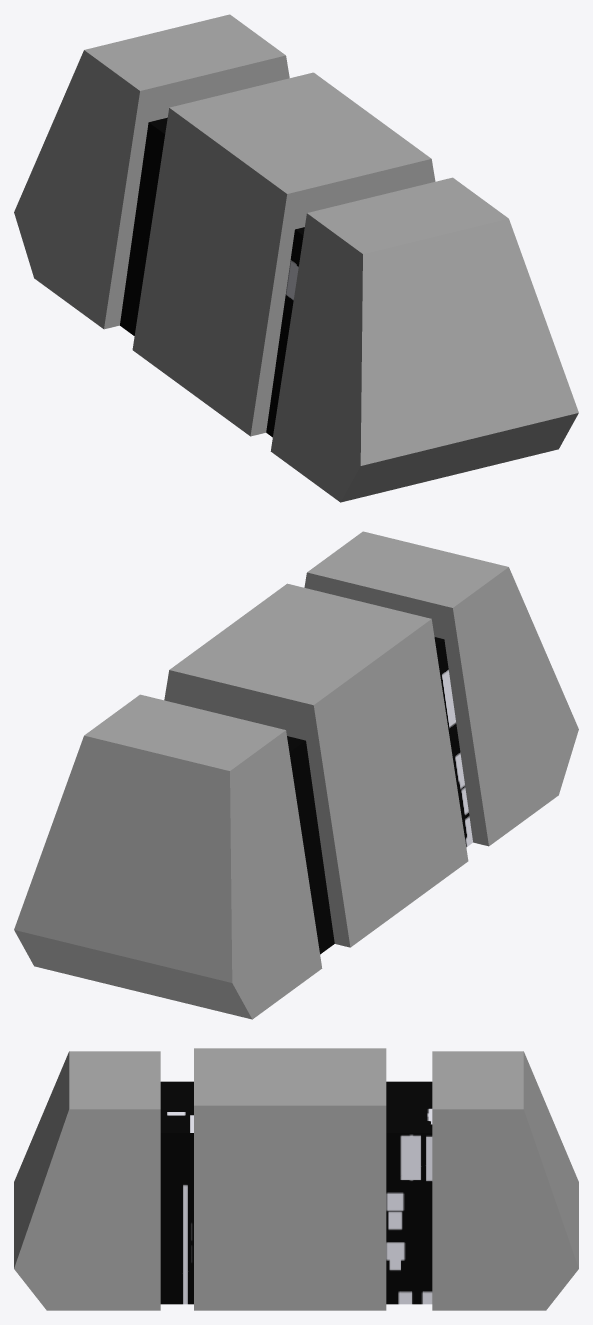
File: CargoAvi.fbx
3 views of the same model, one above another, from view 1: azimuth 30°, elevation 25°; view 2: azimuth 150°, elevation 25°; view 3: azimuth 270°, elevation 25° (orthographic). The views are drawn at different scales.
Parts seen in each view (by area): view 1: CargoAvi; view 2: CargoAvi; view 3: CargoAvi.
Part boxes in pixels (x1,y1,x2,y2): CargoAvi: (14, 14, 578, 502); CargoAvi: (14, 531, 578, 1019); CargoAvi: (14, 1048, 578, 1310).
Size of the model in its own units: 0.2688 by 0.2748 by 0.7394.
2 materials, 1 textured.
